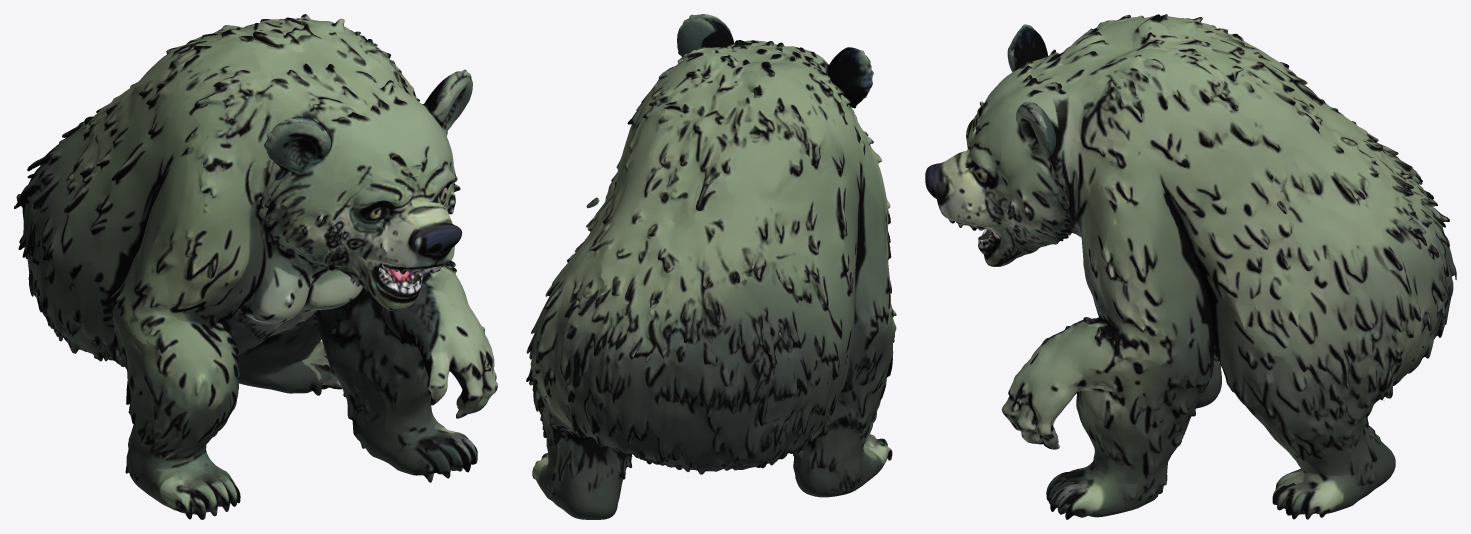
The model's file is zombie-bear.glb.
The picture shows the model from 3 angles, left to right: view 1: azimuth 30°, elevation 25°; view 2: azimuth 150°, elevation 25°; view 3: azimuth 270°, elevation 25°; orthographic projection. The views are drawn at different scales.
Parts seen in each view (by area): view 1: tmp4fhinlq9.ply; view 2: tmp4fhinlq9.ply; view 3: tmp4fhinlq9.ply.
Boxes of the visible parts, x1,y1,x2,y2 form: tmp4fhinlq9.ply: (14,14,497,519); tmp4fhinlq9.ply: (526,14,896,519); tmp4fhinlq9.ply: (925,14,1456,519).
Size of the model in its own units: 1.37 by 1.77 by 1.99.
1 material, 1 textured.
